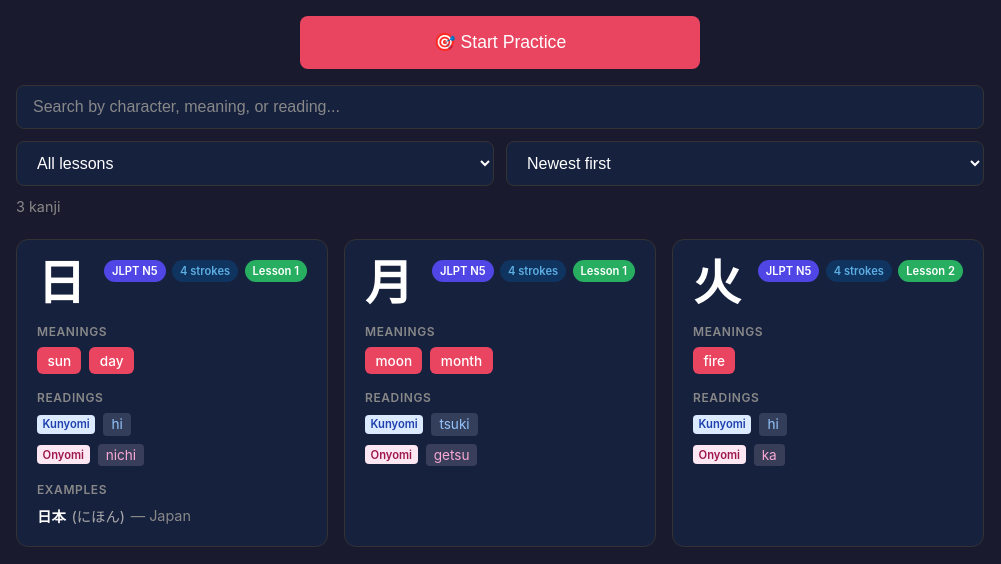
Test: KanjiList › Search and filtering › should filter kanji by meaning
Expected: the text "日" is shown, [37,257,85,310]
Type "fire" into the field named "Search kanji". click: (500, 107)
box: [16,85,984,129]
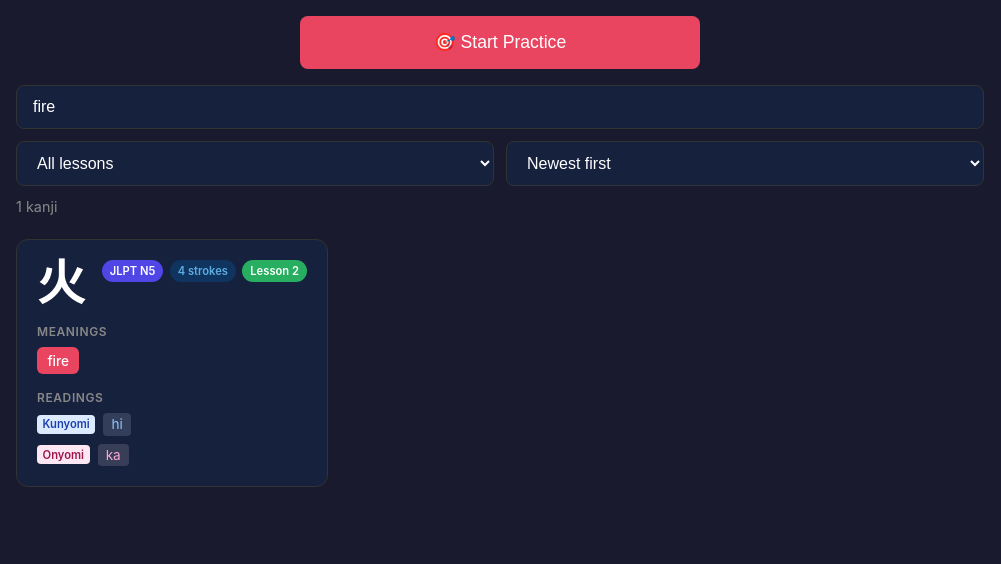
Expected: the text "火" is shown, [37,257,85,310]
Expected: the text "日" is gone
